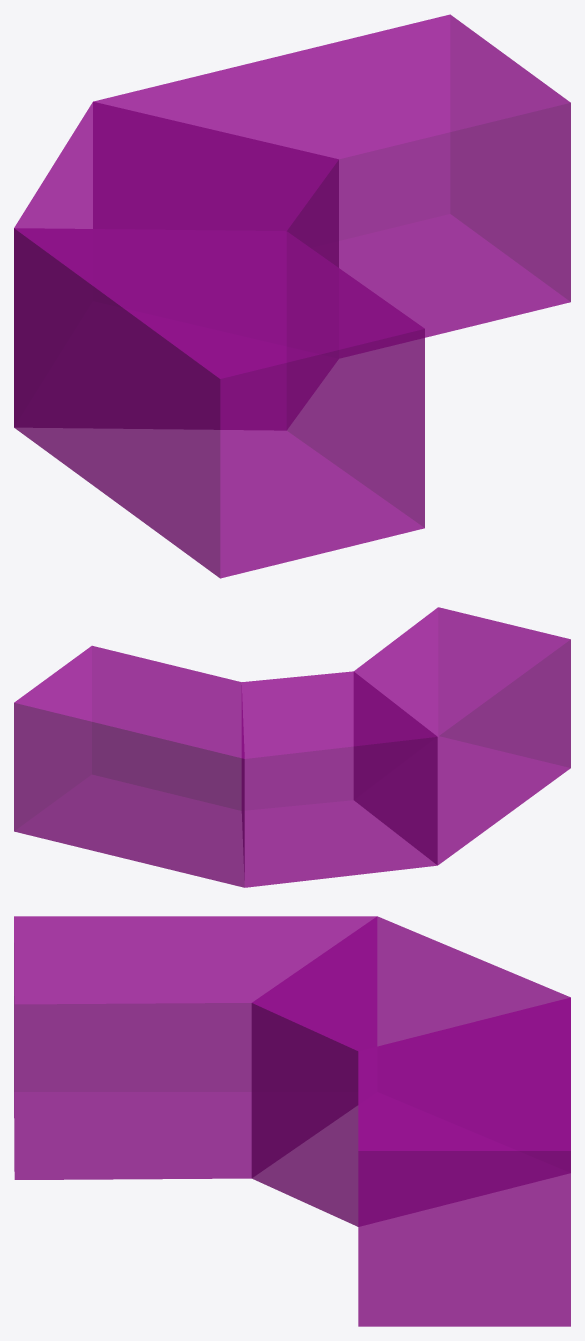
Rendered from SM_Prop_Desk_01_Collision.fbx.
3 views of the same model, one above another, from view 1: azimuth 30°, elevation 25°; view 2: azimuth 150°, elevation 25°; view 3: azimuth 270°, elevation 25° (orthographic). The views are drawn at different scales.
Parts seen in each view (by area): view 1: SM_Prop_Desk_01_Collision; view 2: SM_Prop_Desk_01_Collision; view 3: SM_Prop_Desk_01_Collision.
Part boxes in pixels (x1,y1,x2,y2): SM_Prop_Desk_01_Collision: [14, 14, 570, 578]; SM_Prop_Desk_01_Collision: [14, 607, 570, 887]; SM_Prop_Desk_01_Collision: [14, 916, 570, 1326].
Bounding box in the file's own units: 229 × 79.87 × 229.
